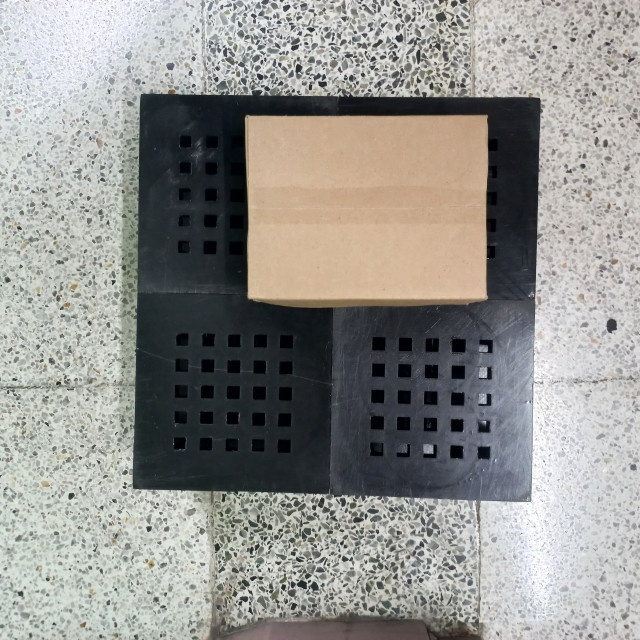box: (241, 113, 489, 309)
pallet: (131, 87, 542, 516)
